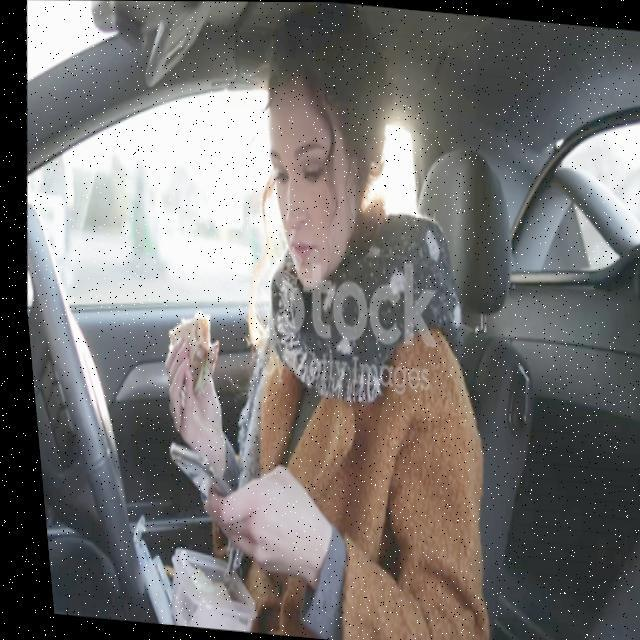PhoneCall: (151, 439, 259, 562)
